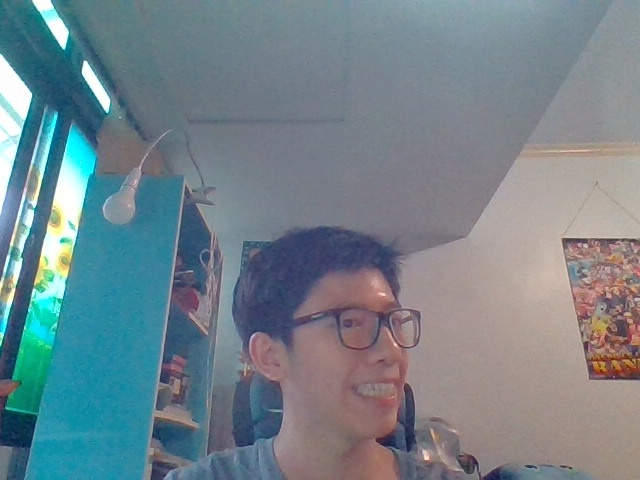NoMask: (247, 333, 410, 441)
